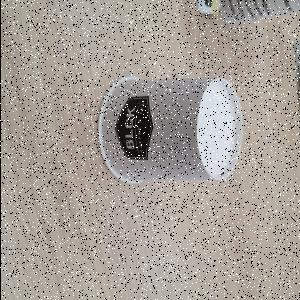Cup: (97, 78, 243, 186)
